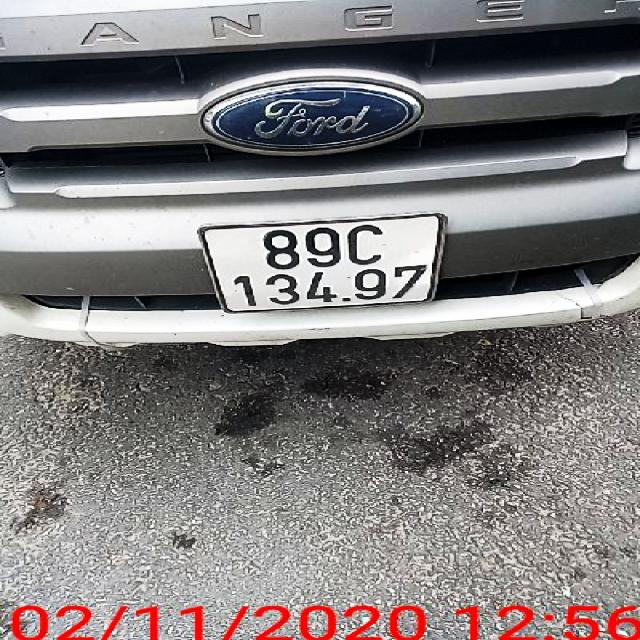license_plate: (200, 217, 448, 314)
